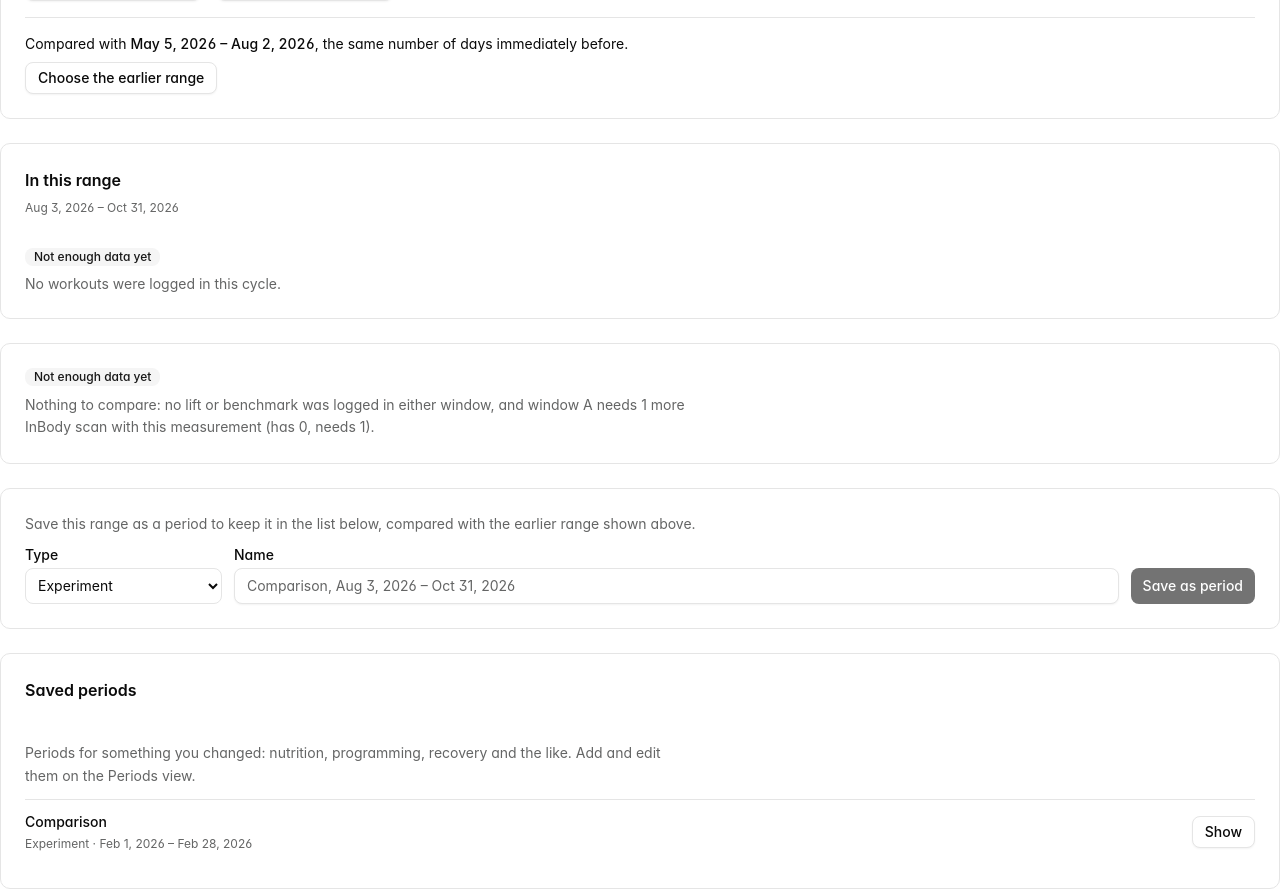
Scenario: CompareTab — saved ranges › uses a saved comparison's own earlier range
The image size is (1280, 889).
(page scrolled)
Step 1. Click the button named "Show \"Comparison\"" → {"x": 1223, "y": 832}, box [1192,816,1255,848]
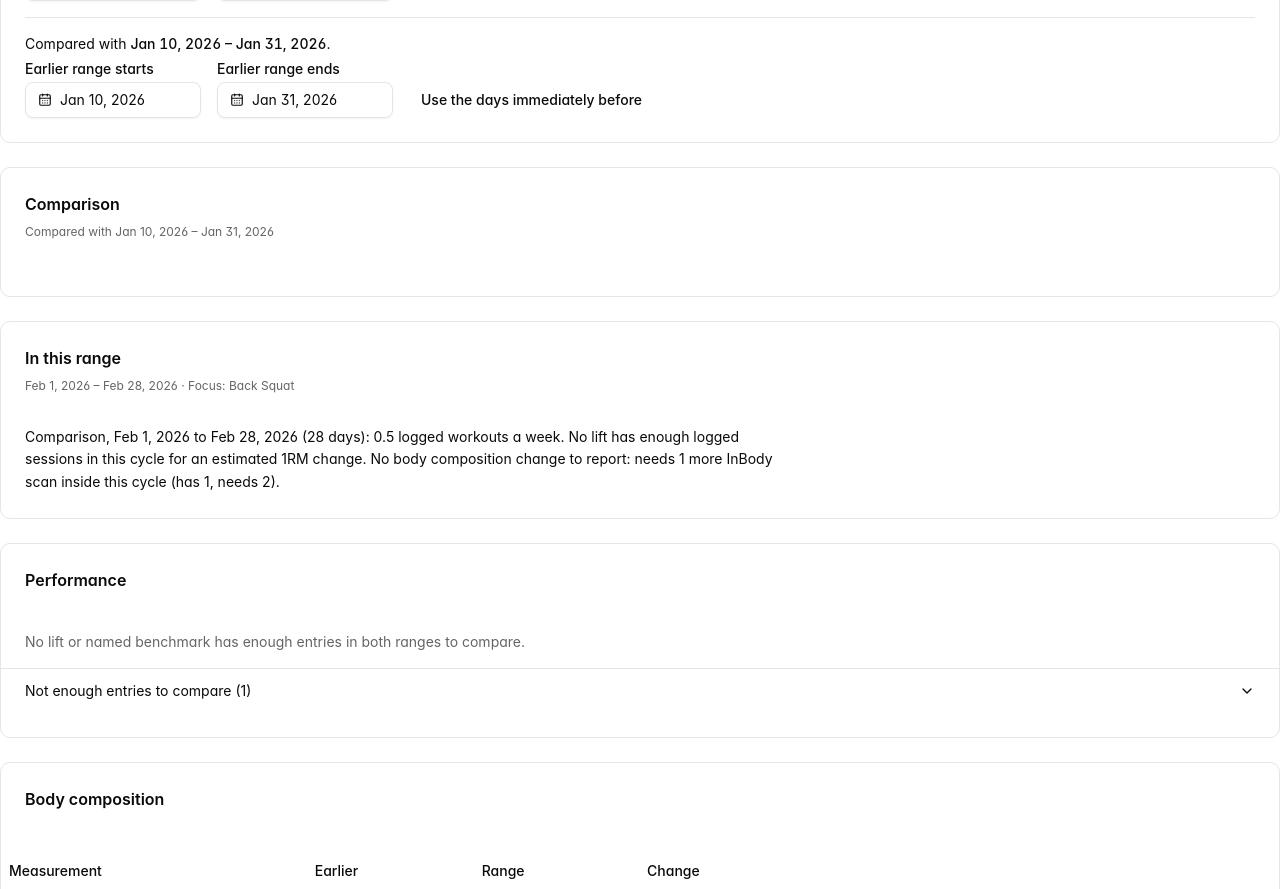
Expected: the text "Compared with Jan 10, 2026 – Jan 31, 2026" is shown, [25,224,274,238]
Expected: the button named "Earlier range starts" reads "Jan 10, 2026", [25,82,201,118]
